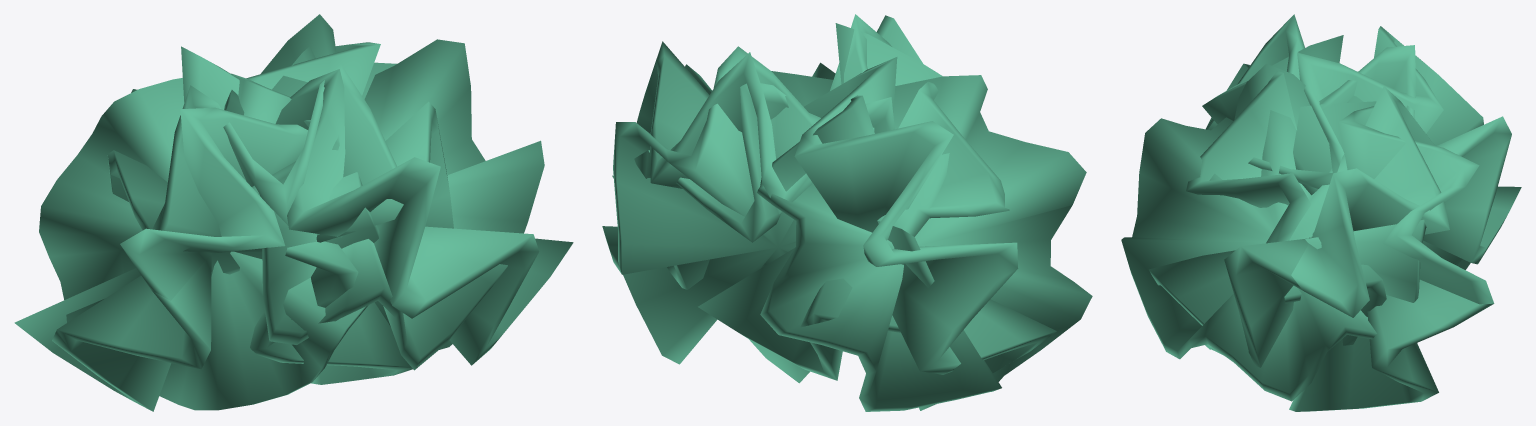
The model's file is sea-lettuce.001.fbx.
The picture shows the model from 3 angles, left to right: view 1: azimuth 30°, elevation 25°; view 2: azimuth 150°, elevation 25°; view 3: azimuth 270°, elevation 25°; orthographic projection. The views are drawn at different scales.
Visible parts, largest first — view 1: sea-lettuce.001; view 2: sea-lettuce.001; view 3: sea-lettuce.001.
Boxes of the visible parts, x1,y1,x2,y2 form: sea-lettuce.001: (14, 14, 573, 411); sea-lettuce.001: (602, 14, 1092, 411); sea-lettuce.001: (1121, 14, 1521, 411).
Bounding box in the file's own units: 107 × 76.04 × 85.88.
